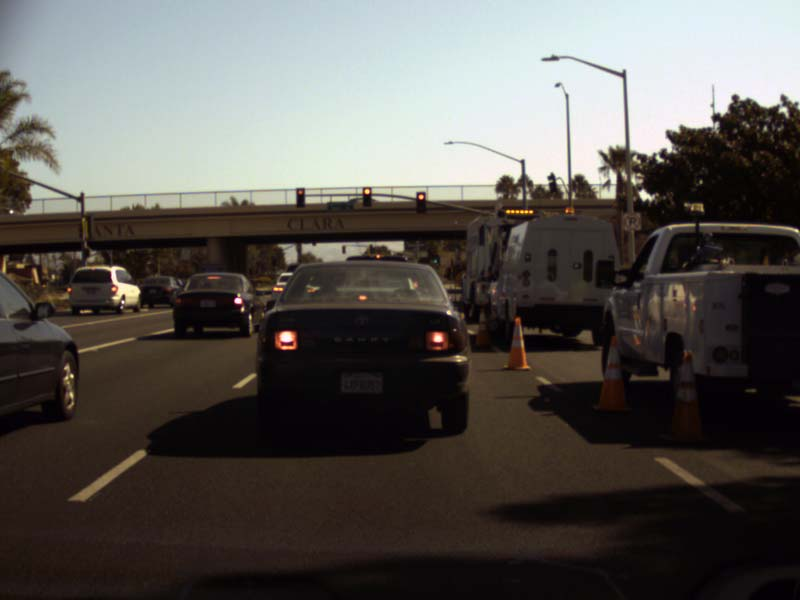Red: (415, 191, 425, 213), (362, 187, 370, 206), (296, 189, 304, 207)
